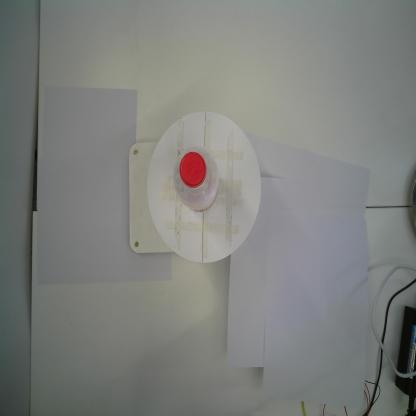Drink: (171, 140, 221, 216)
